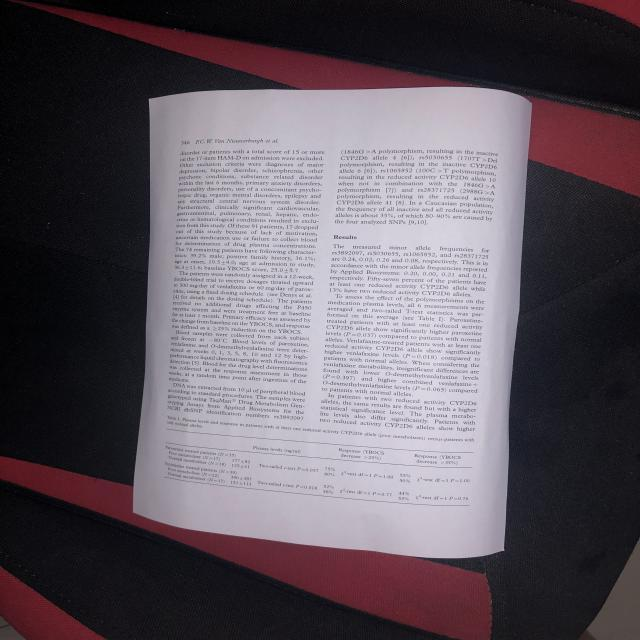kertas: (131, 74, 532, 561)
